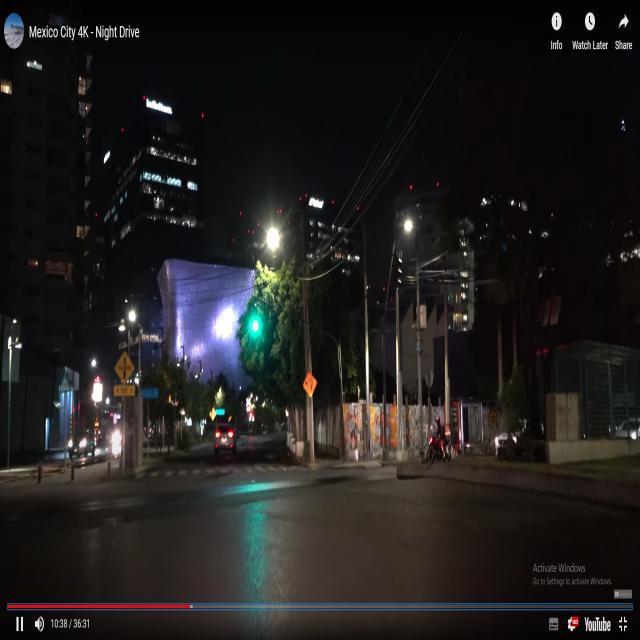headlights: (64, 434, 92, 454)
